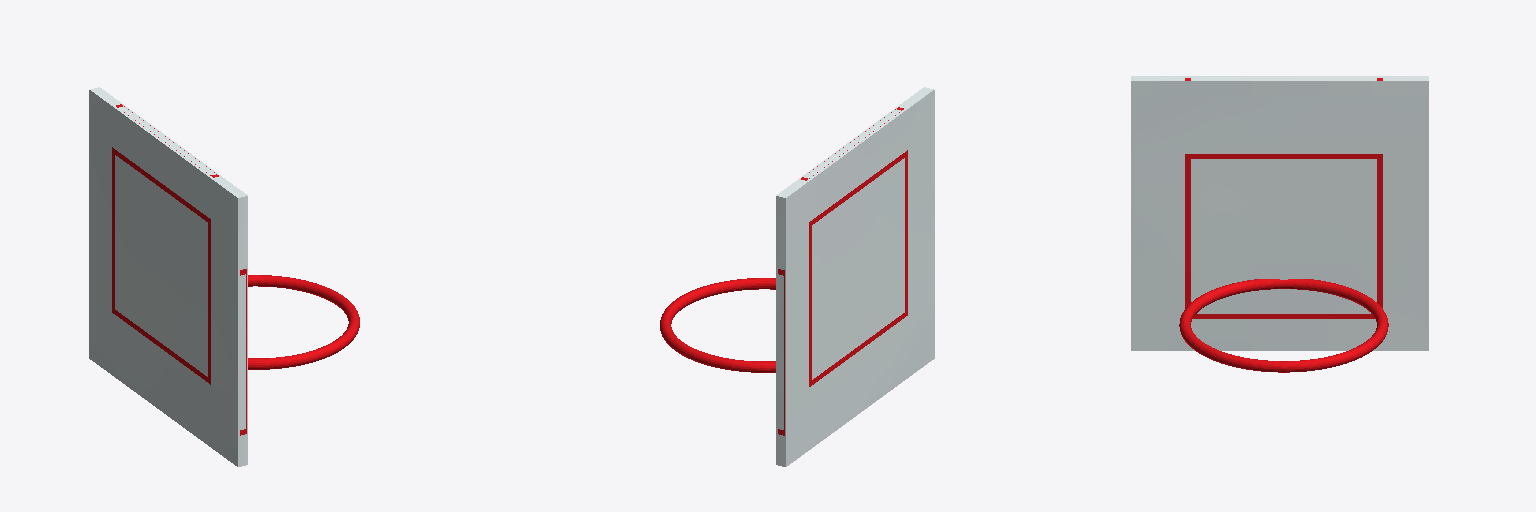
3 renders of one model, left to right at view 1: azimuth 30°, elevation 25°; view 2: azimuth 150°, elevation 25°; view 3: azimuth 270°, elevation 25°, orthographic.
Parts seen in each view (by area): view 1: canasta:pasted__pCube3group, canasta:grouppasted__pTorus1; view 2: canasta:pasted__pCube3group, canasta:grouppasted__pTorus1; view 3: canasta:pasted__pCube3group, canasta:grouppasted__pTorus1.
Boxes of the visible parts, box(x1,y1,x2,y2) form: canasta:pasted__pCube3group: box(89, 87, 247, 466); canasta:grouppasted__pTorus1: box(248, 275, 359, 369); canasta:pasted__pCube3group: box(776, 87, 934, 466); canasta:grouppasted__pTorus1: box(660, 278, 775, 372); canasta:pasted__pCube3group: box(1131, 76, 1428, 350); canasta:grouppasted__pTorus1: box(1179, 279, 1388, 372).
Bounding box in the file's own units: 1.79 × 2.5 × 2.5.
1 materials, 1 textured.